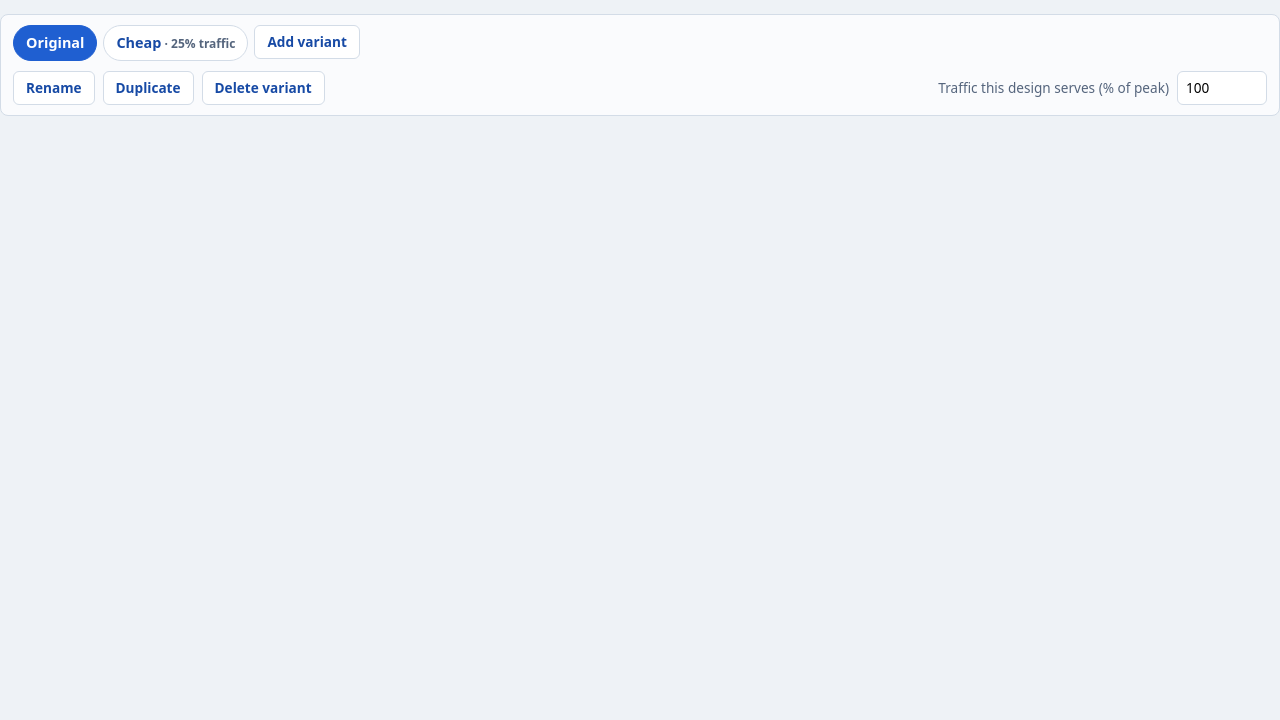
Test case: VariantBar › switches variant and offers the ways to add one
Click the tab "Cheap · 25% traffic".
click(176, 43)  # box x1=103 y1=25 x2=248 y2=61
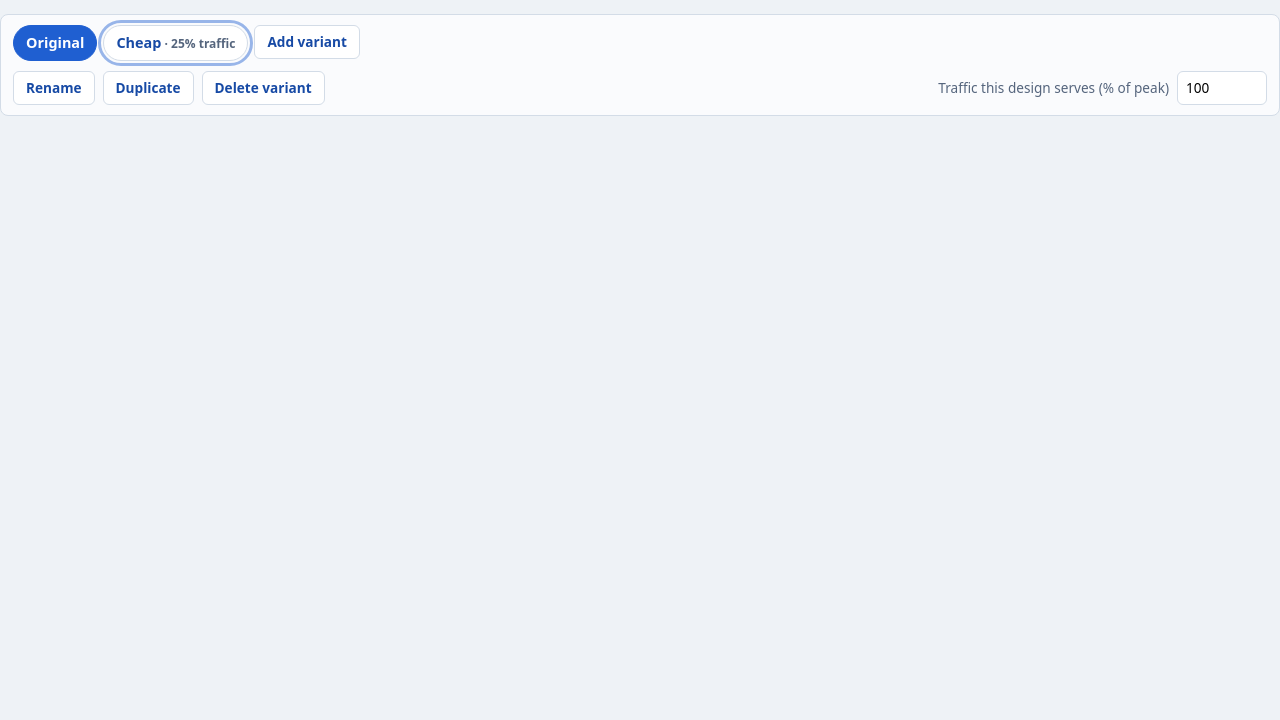
Click the button "Add variant".
click(307, 42)  # box x1=254 y1=25 x2=360 y2=59
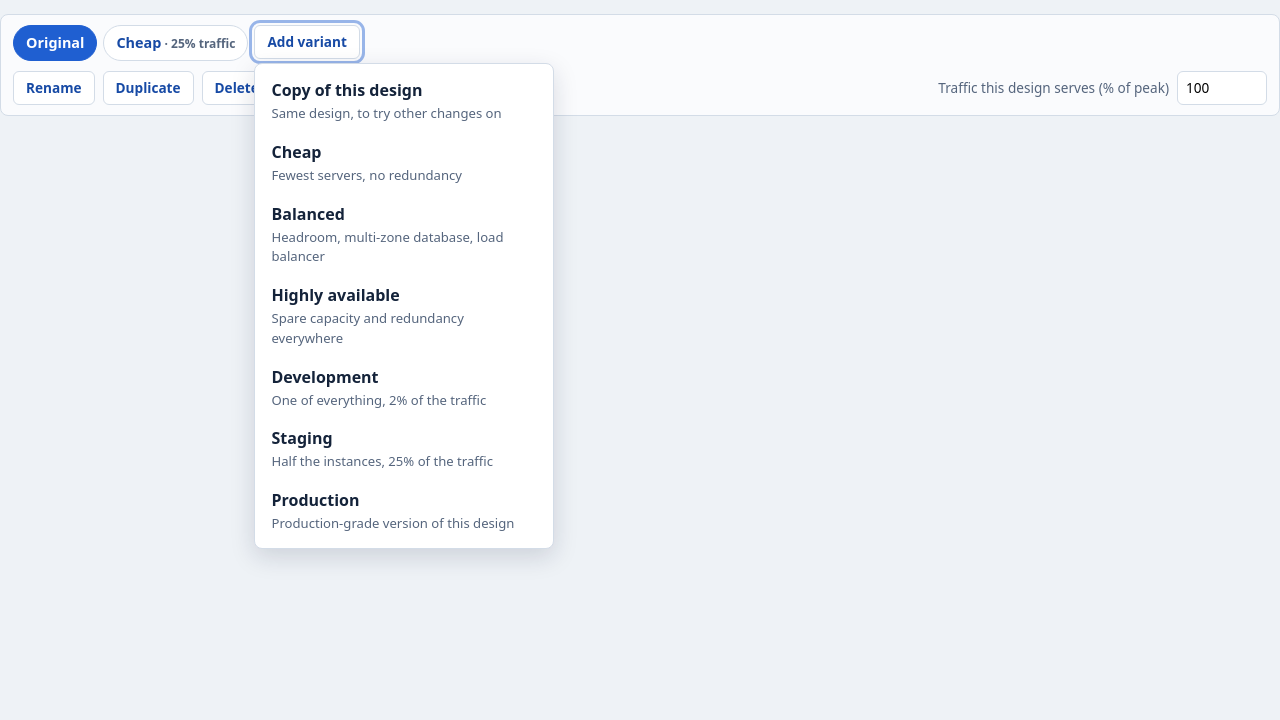
Click the menu item "Copy of this design Same design, to try other changes on".
click(404, 101)  # box x1=262 y1=70 x2=548 y2=132
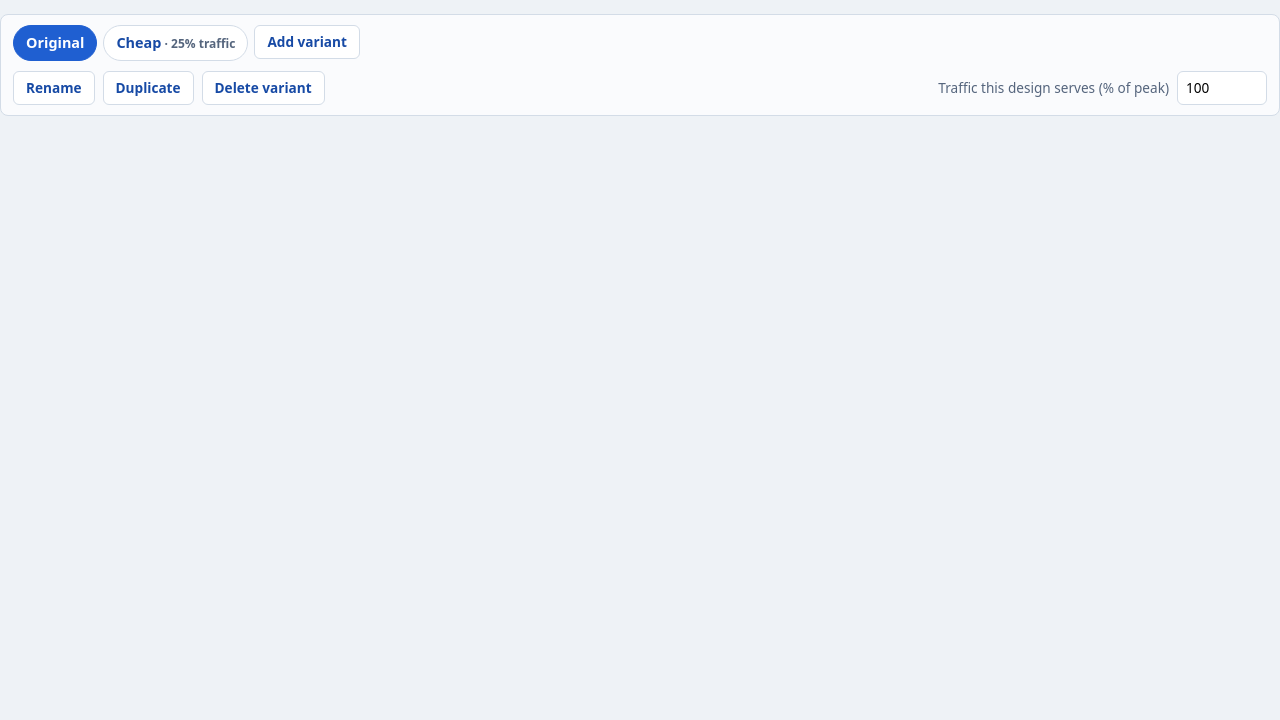
Now the menu is gone
